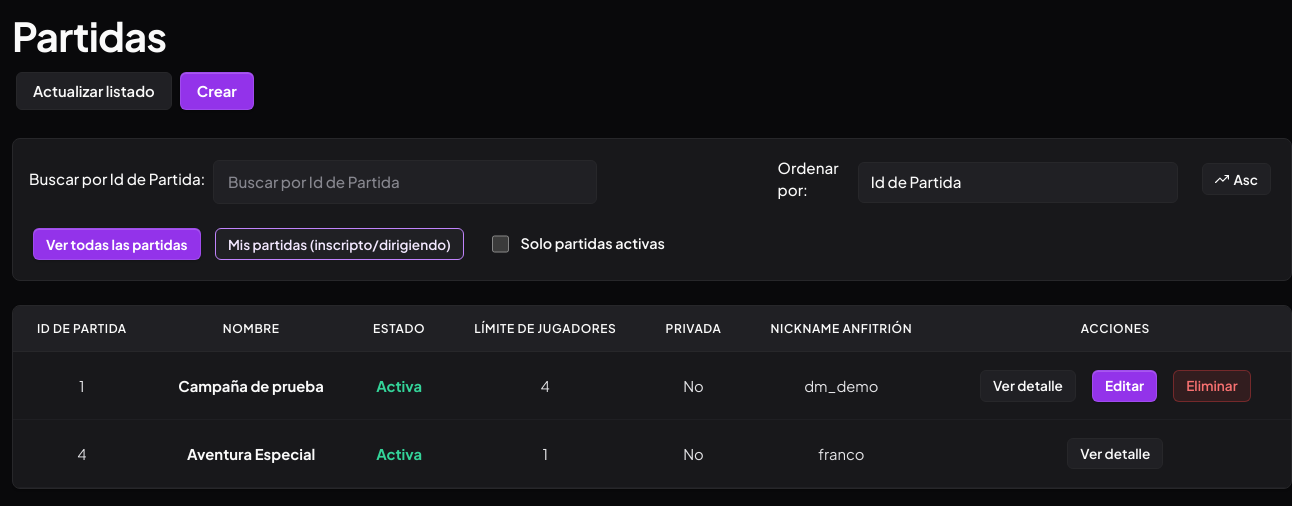
Test: filtra partidas por idPartida numérico sin confundirse con otros campos numéricos
Expected: the text "Campaña de prueba" is shown, x1=178 y1=378 x2=324 y2=396
Expected: the text "Aventura Especial" is shown, x1=187 y1=446 x2=315 y2=464
# Buscar '1': debe mostrar solo la partida 1, NO la partida 4 (aunque tenga limiteJugadores: 1)
Type "1" into the field with placeholder "Buscar por Id de Partida" at (405, 182), box x1=213 y1=160 x2=597 y2=204
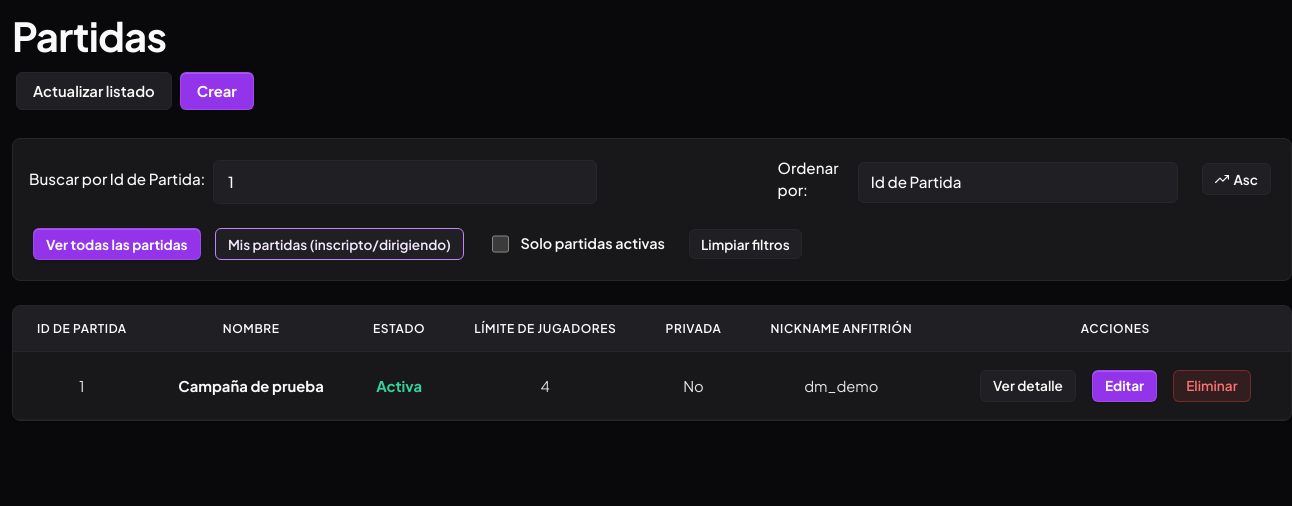
Expected: the text "Campaña de prueba" is shown, x1=178 y1=378 x2=324 y2=396
Now the text "Aventura Especial" is gone
# Buscar '4': debe mostrar solo la partida 4, NO la partida 1 (aunque tenga limiteJugadores: 4)
Replace the text in the field with placeholder "Buscar por Id de Partida" with "4" at (405, 182), box x1=213 y1=160 x2=597 y2=204
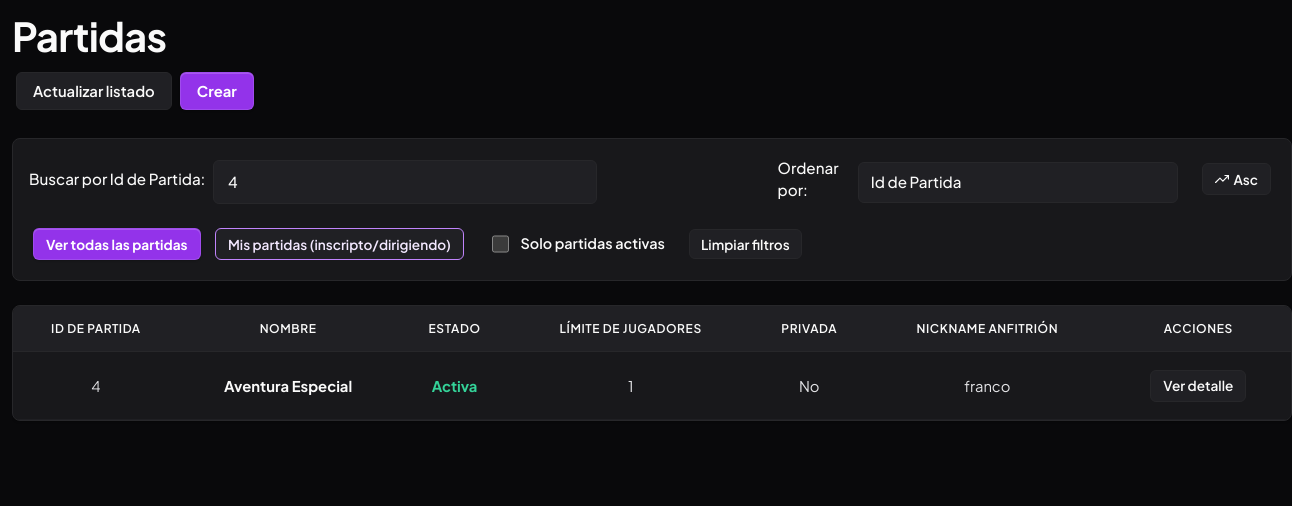
Now the text "Campaña de prueba" is gone
Now the text "Aventura Especial" is shown, box x1=224 y1=378 x2=352 y2=396
